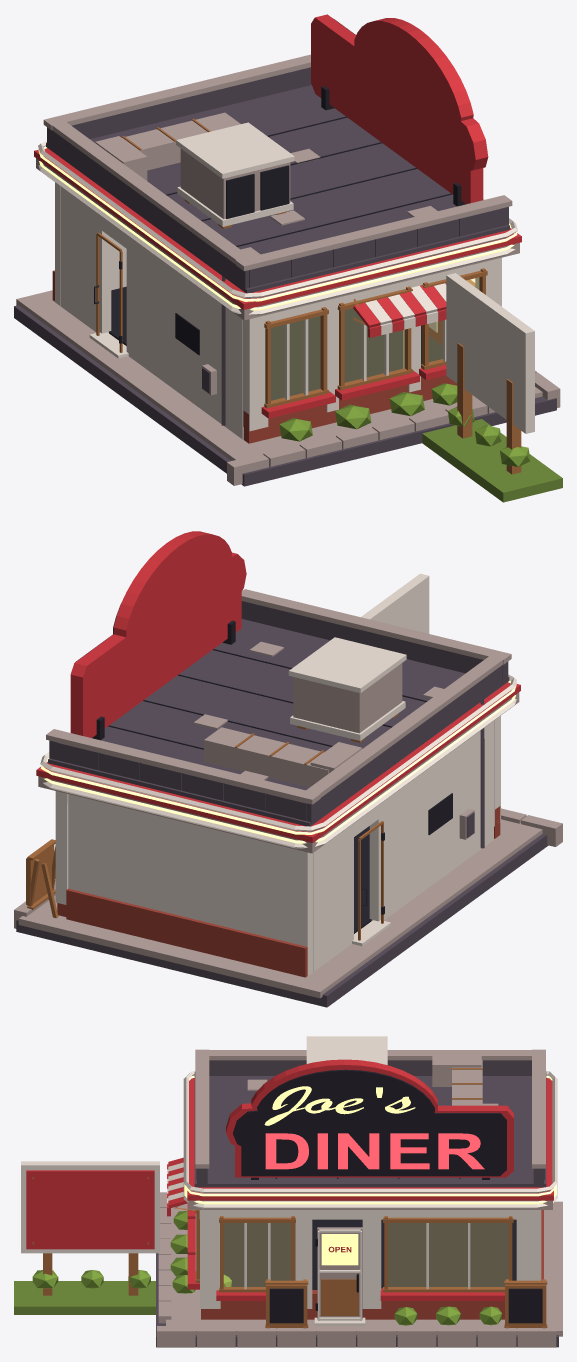
3 views of the same model, one above another, from view 1: azimuth 30°, elevation 25°; view 2: azimuth 150°, elevation 25°; view 3: azimuth 270°, elevation 25° (orthographic). The views are drawn at different scales.
Parts seen in each view (by area): view 1: body, roof_pal_asphalt, roof_pal_survivorRed, roof_pal_sidewalk, root_pal_sidewalk, roof_pal_picketWhite, root_pal_asphalt, interior_pal_uiDark, root_pal_woodWarm, root_pal_windowGlow, root_pal_grass, root_pal_survivorRed (+6 smaller); view 2: body, roof_pal_asphalt, roof_pal_survivorRed, roof_pal_sidewalk, root_pal_sidewalk, roof_pal_picketWhite, root_pal_brick, root_pal_asphalt, roof_emi_windowGlow, root_pal_woodWarm, roof_pal_uiDark, interior_pal_uiDark (+2 smaller); view 3: roof_pal_uiDark, root_pal_sidewalk, body, roof_pal_asphalt, root_pal_survivorRed, interior_pal_uiDark, root_pal_windowGlow, roof_pal_sidewalk, roof_pal_survivorRed, roof_pal_picketWhite, root_pal_woodWarm, roof_emi_survivorRed (+10 smaller).
Boxes of the visible parts, box(x1,y1,x2,y2) form: body: box(55, 182, 534, 439); roof_pal_asphalt: box(46, 67, 509, 293); roof_pal_survivorRed: box(34, 14, 521, 309); roof_pal_sidewalk: box(36, 54, 519, 320); root_pal_sidewalk: box(16, 290, 560, 485); roof_pal_picketWhite: box(38, 122, 517, 315); root_pal_asphalt: box(14, 276, 556, 486); interior_pal_uiDark: box(109, 286, 442, 400); root_pal_woodWarm: box(264, 268, 521, 474); root_pal_windowGlow: box(271, 278, 478, 400); root_pal_grass: box(422, 419, 562, 502); root_pal_survivorRed: box(261, 283, 446, 418); body: box(55, 573, 500, 976); roof_pal_asphalt: box(48, 601, 509, 826); roof_pal_survivorRed: box(36, 531, 520, 842); roof_pal_sidewalk: box(38, 589, 519, 853); root_pal_sidewalk: box(14, 808, 562, 998); roof_pal_picketWhite: box(40, 637, 516, 848); root_pal_brick: box(57, 806, 500, 977); root_pal_asphalt: box(16, 699, 548, 1007); roof_emi_windowGlow: box(40, 680, 516, 843); root_pal_woodWarm: box(26, 839, 58, 918); roof_pal_uiDark: box(76, 604, 427, 749); interior_pal_uiDark: box(354, 826, 371, 933); roof_pal_uiDark: box(233, 1069, 506, 1179); root_pal_sidewalk: box(157, 1192, 562, 1347); body: box(21, 1161, 541, 1325); roof_pal_asphalt: box(194, 1060, 546, 1187); root_pal_survivorRed: box(26, 1157, 504, 1300); interior_pal_uiDark: box(223, 1219, 516, 1289); root_pal_windowGlow: box(224, 1223, 508, 1286); roof_pal_sidewalk: box(188, 1049, 552, 1209); roof_pal_survivorRed: box(187, 1059, 553, 1200); roof_pal_picketWhite: box(183, 1036, 557, 1208); root_pal_woodWarm: box(32, 1177, 547, 1328); roof_emi_survivorRed: box(265, 1133, 484, 1169).
Bounding box in the file's own units: 6.97 × 6.32 × 11.65.
